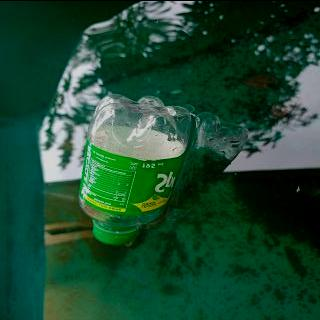bottle: (74, 90, 195, 246)
